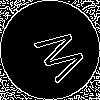W: (25, 25, 89, 89)
